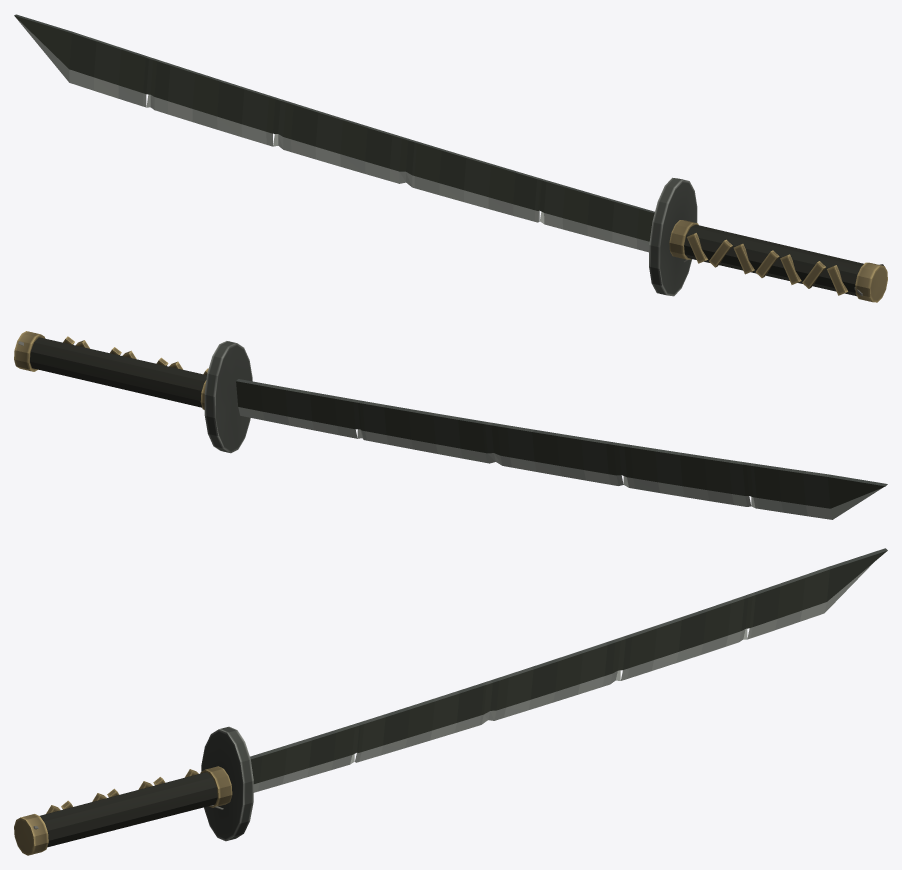
The model's file is katana.glb.
3 views of the same model, one above another, from view 1: azimuth 30°, elevation 25°; view 2: azimuth 210°, elevation 25°; view 3: azimuth 270°, elevation 25° (orthographic).
Parts seen in each view (by area): view 1: katanaBlade, katanaEdgeFrame; view 2: katanaBlade, katanaEdgeFrame; view 3: katanaBlade, katanaEdgeFrame.
Part boxes in pixels (<box>): katanaBlade: <box>14,14,654,252</box>; katanaEdgeFrame: <box>649,177,887,302</box>; katanaBlade: <box>236,379,887,519</box>; katanaEdgeFrame: <box>14,331,252,453</box>; katanaBlade: <box>250,548,887,792</box>; katanaEdgeFrame: <box>14,726,253,855</box>.
Bounding box in the file's own units: 0.7936 × 0.2028 × 1.29.
